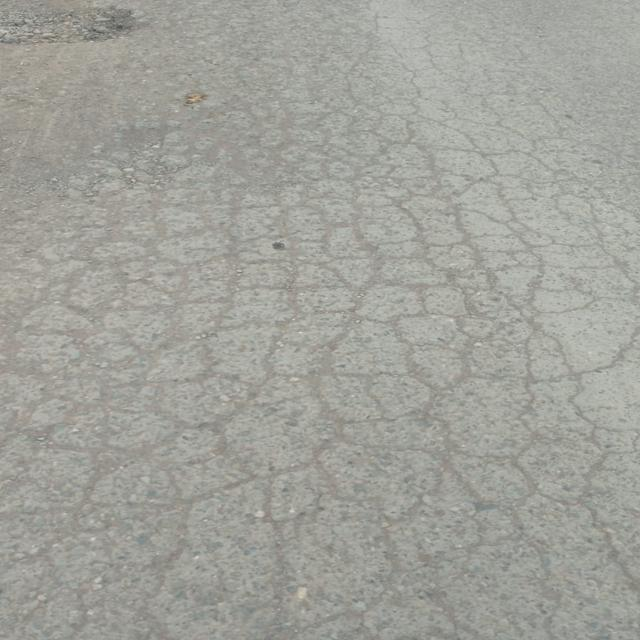Retak Buaya: (3, 152, 555, 512)
